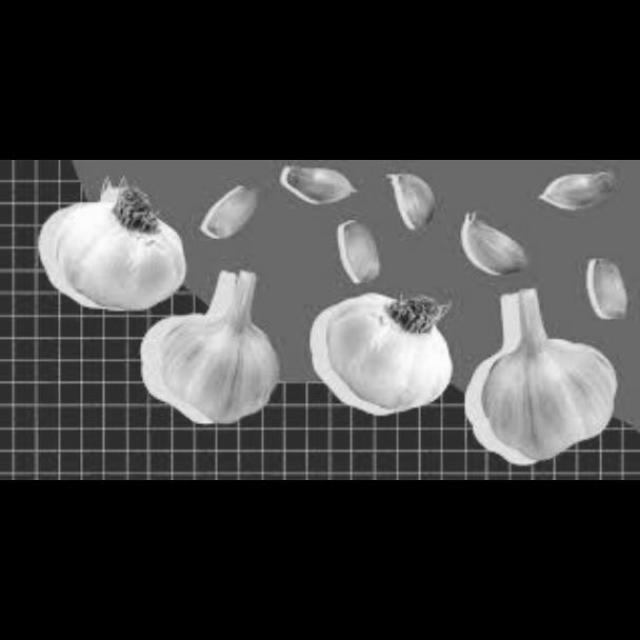garlic: (460, 288, 620, 470), (136, 258, 287, 436), (32, 182, 187, 315), (313, 282, 460, 418), (450, 212, 537, 283), (194, 176, 261, 243), (537, 164, 625, 215), (330, 212, 388, 289), (582, 241, 631, 330), (381, 166, 440, 236), (276, 160, 358, 208)
